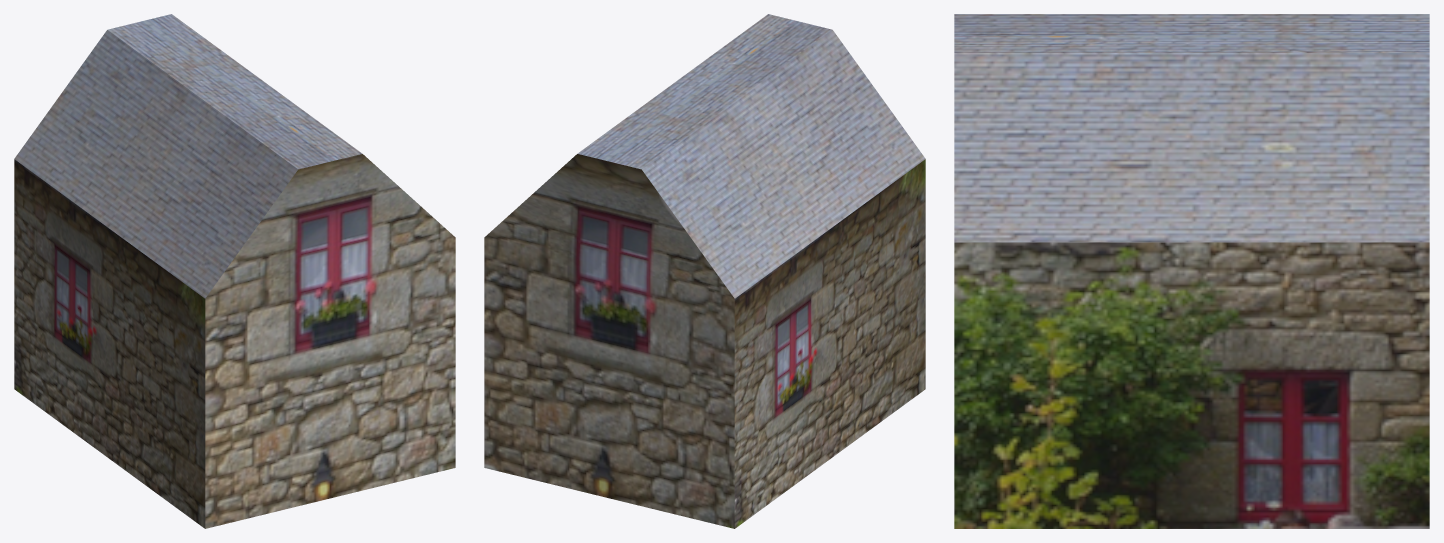
The model's file is architect.glb.
3 views of the same model, side by side, from view 1: azimuth 30°, elevation 25°; view 2: azimuth 150°, elevation 25°; view 3: azimuth 270°, elevation 25° (orthographic). The views are drawn at different scales.
Parts seen in each view (by area): view 1: Cube; view 2: Cube; view 3: Cube.
Boxes of the visible parts, x1,y1,x2,y2 form: Cube: (14,14,455,528); Cube: (484,14,925,528); Cube: (954,14,1429,528).
Size of the model in its own units: 7.08 by 9.09 by 9.34.
1 material, 1 textured.
